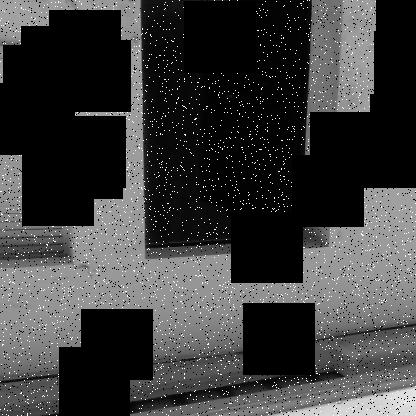Porte: (137, 1, 347, 261)
